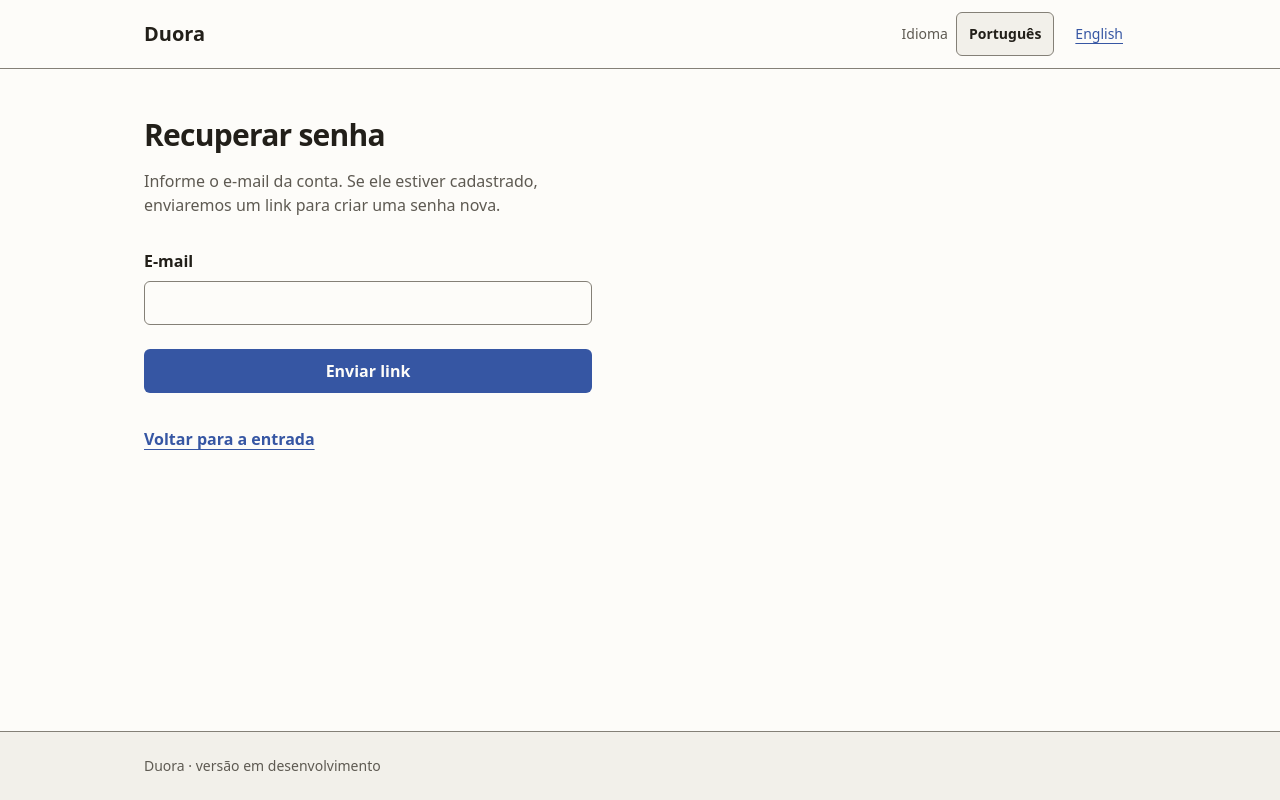
Test: tela de recuperação de senha › 429 mostra o tempo de espera
The image size is (1280, 800).
Type "ana@exemplo.com" into the field labelled "E-mail" at (368, 303), box [144, 281, 592, 325]
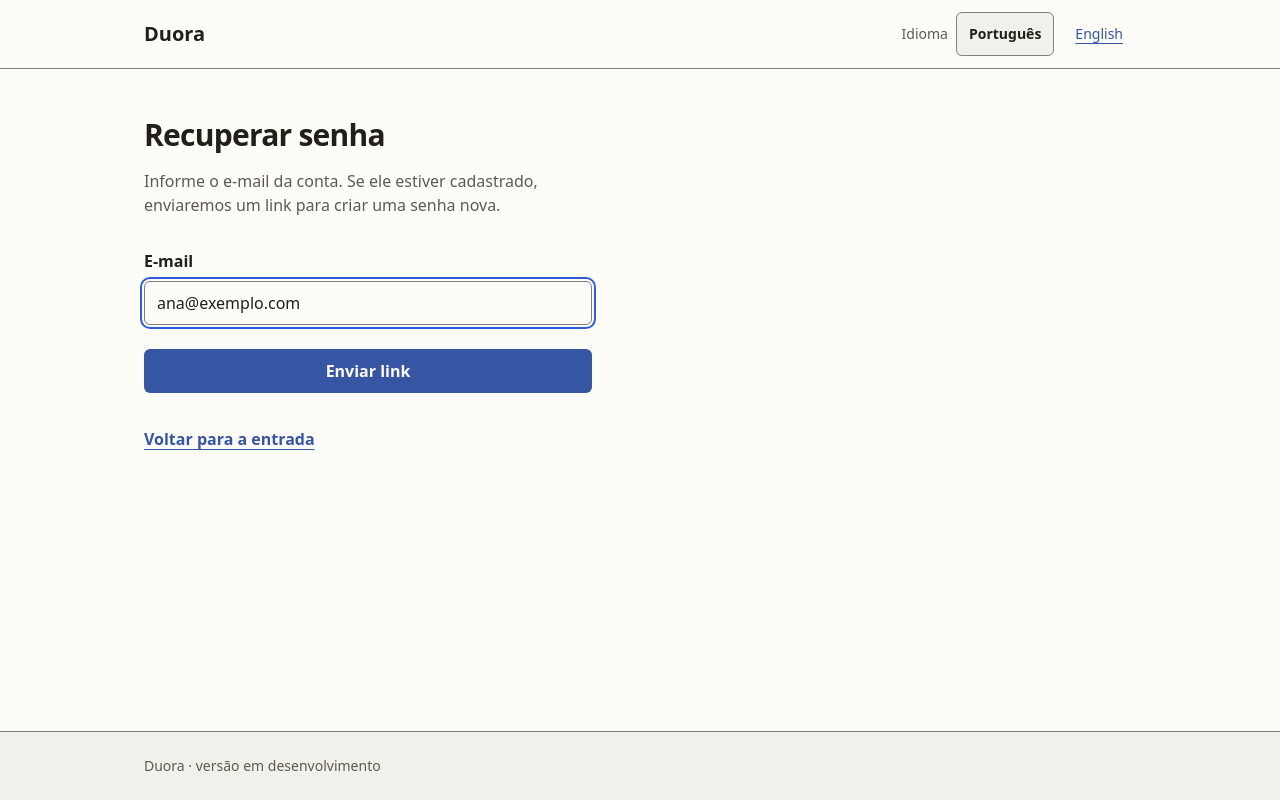
Click the button "Enviar link" at (368, 371), box [144, 349, 592, 393]
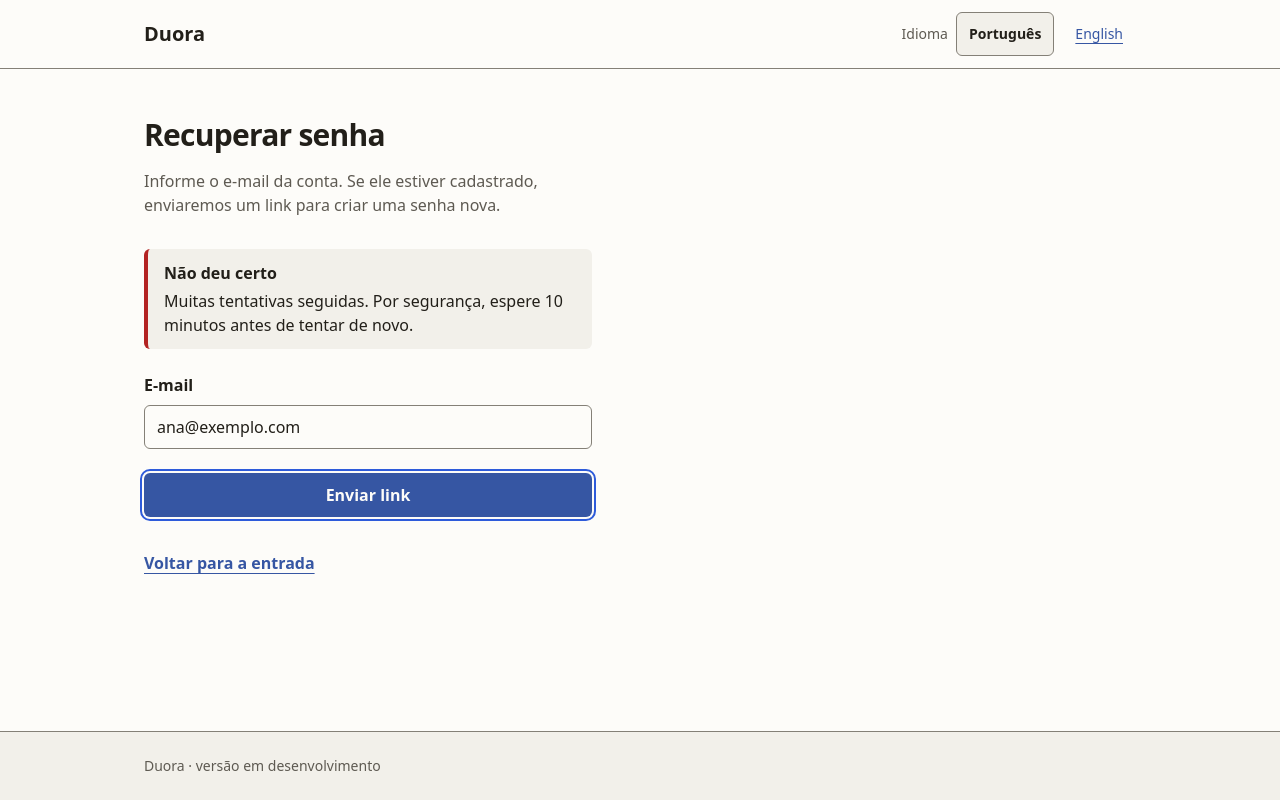
Check: the message shows "espere 10 minutos", box [164, 290, 563, 336]
